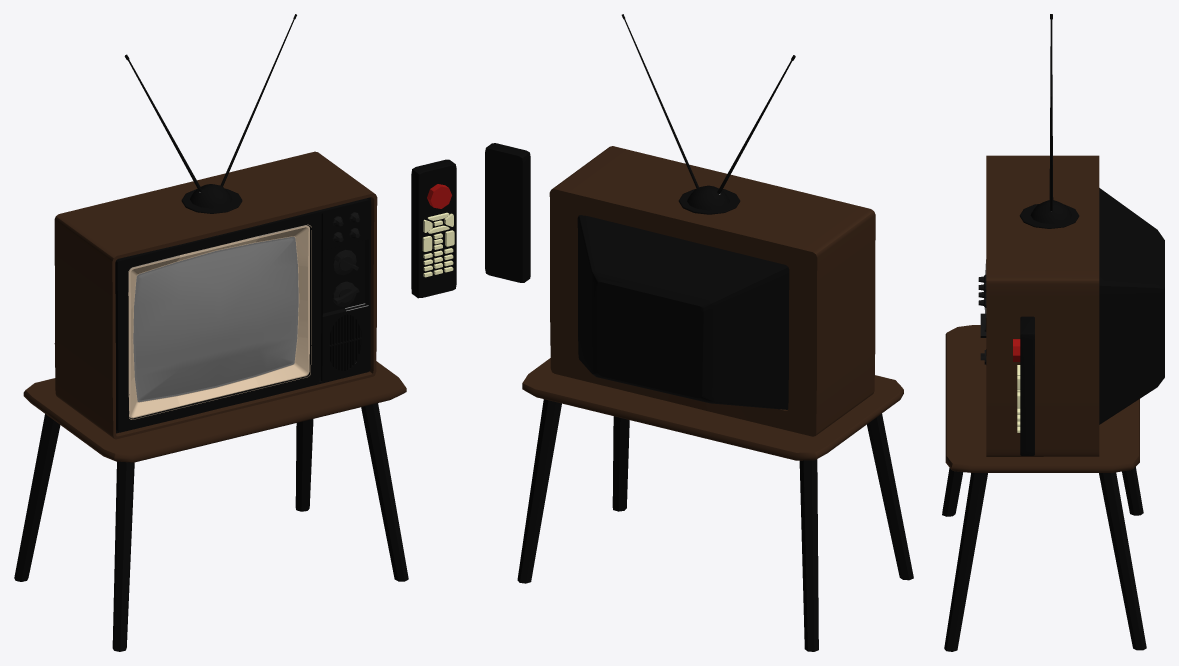
File: lowPolyTV_OBJ.obj
3 views of the same model, side by side, from view 1: azimuth 30°, elevation 25°; view 2: azimuth 150°, elevation 25°; view 3: azimuth 270°, elevation 25° (orthographic). The views are drawn at different scales.
Visible parts, largest first — view 1: television_GEO, remote_GEO; view 2: television_GEO, remote_GEO; view 3: television_GEO, remote_GEO.
Boxes of the visible parts, x1=… form: television_GEO: x1=14, y1=14, x2=408, y2=651; remote_GEO: x1=411, y1=159, x2=456, y2=298; television_GEO: x1=517, y1=14, x2=913, y2=651; remote_GEO: x1=485, y1=143, x2=530, y2=282; television_GEO: x1=942, y1=14, x2=1164, y2=651; remote_GEO: x1=1013, y1=316, x2=1034, y2=455.
Size of the model in its own units: 14.54 by 19.63 by 7.5.
